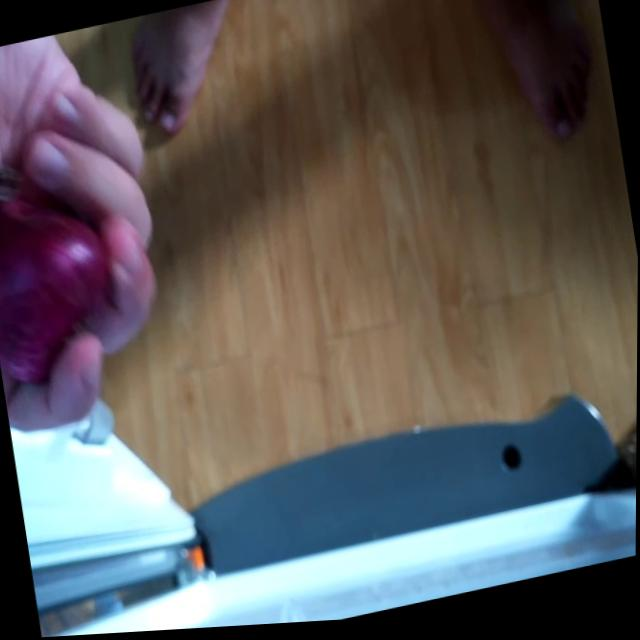onion: (0, 144, 125, 388)
